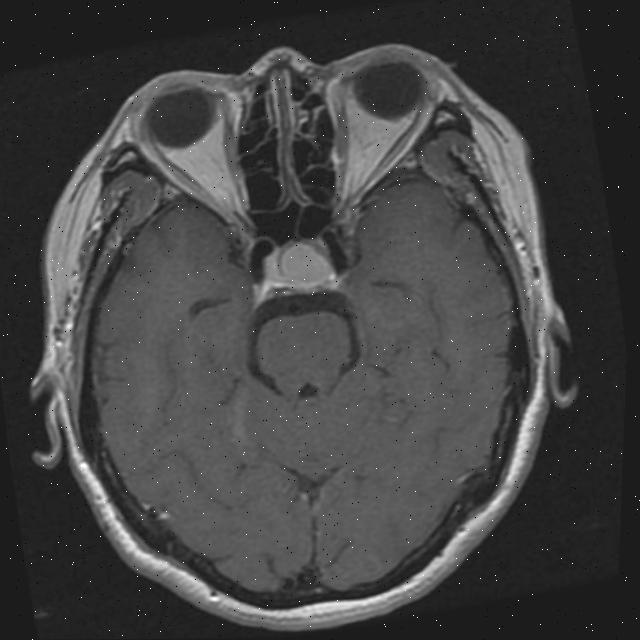Pituitary: (272, 232, 340, 293)
